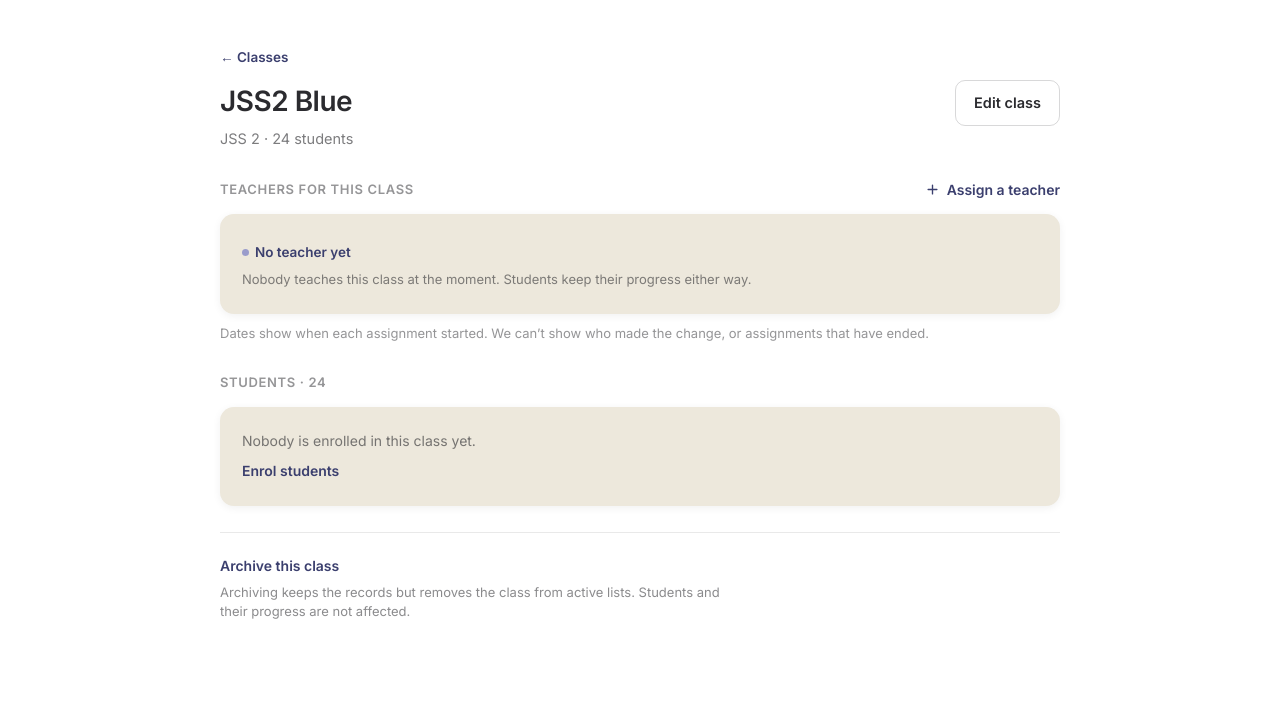
Test: ClassDetailView archive › closes on a successful archive
Step 1. Click the button "Archive this class" → (280,566), box x1=220 y1=556 x2=339 y2=576
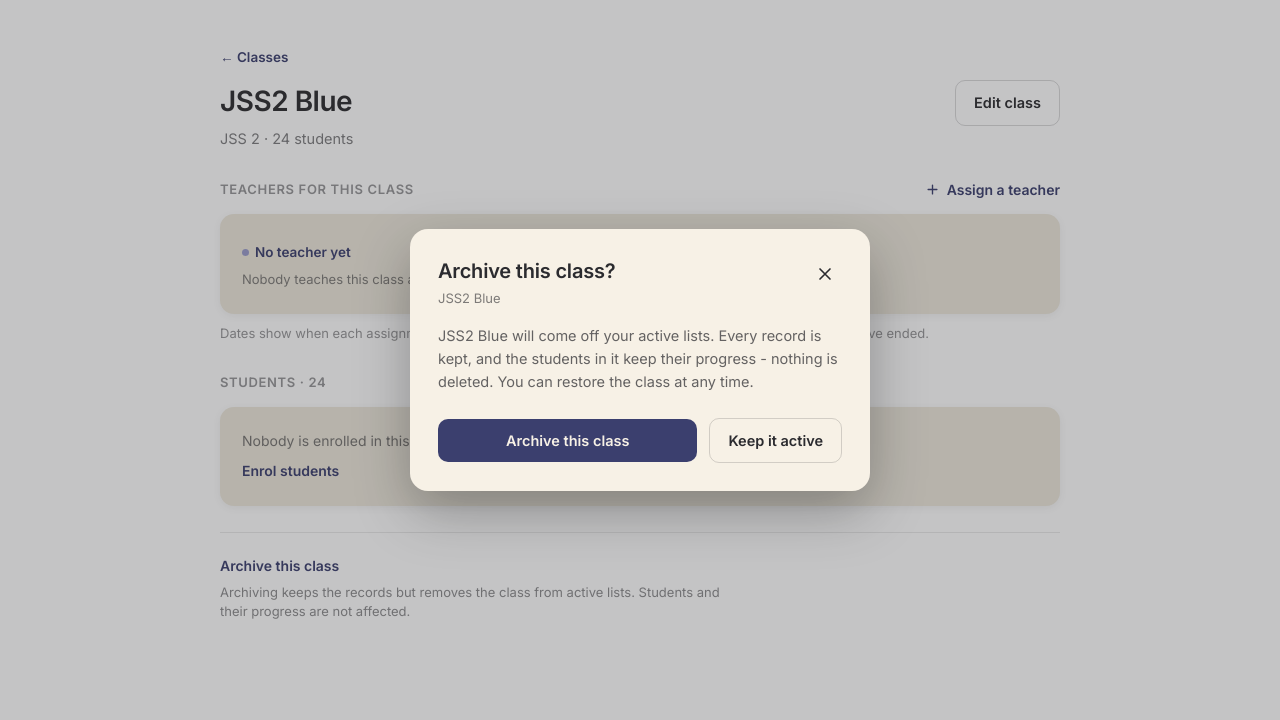
Step 2. Click the button "Archive this class" → (568,441), box x1=438 y1=419 x2=698 y2=462
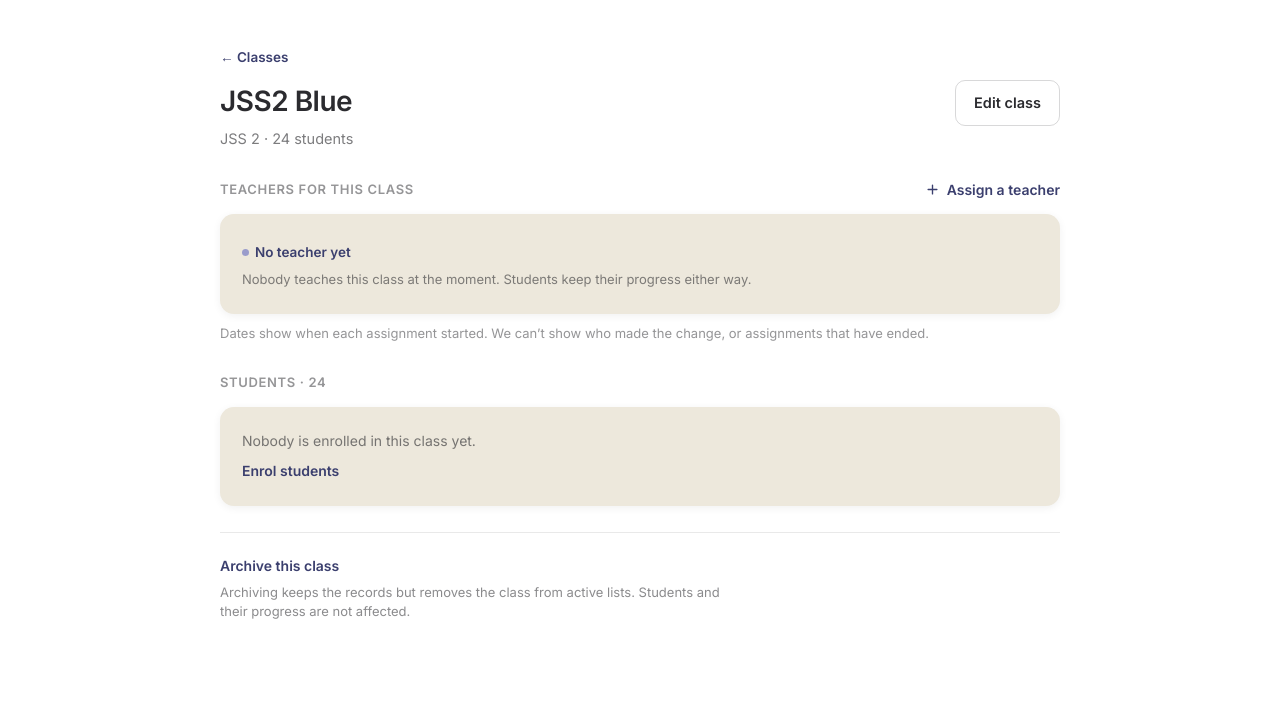
Now the dialog is gone
